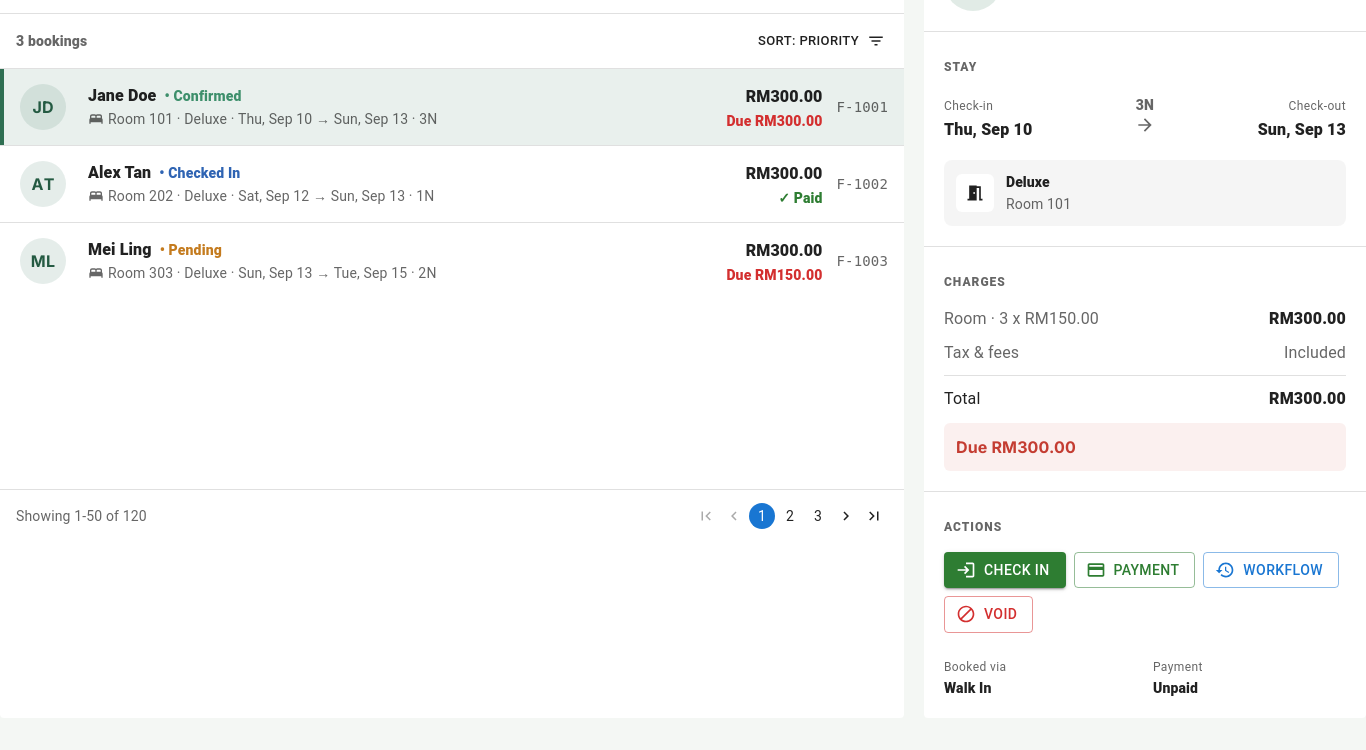
BookingsPage › modals › the existing-booking "Check in" button fetches the guest profile and prefills IC/phone
(page scrolled)
Click the button "Check in" at (1005,570), box [944,552,1066,588]
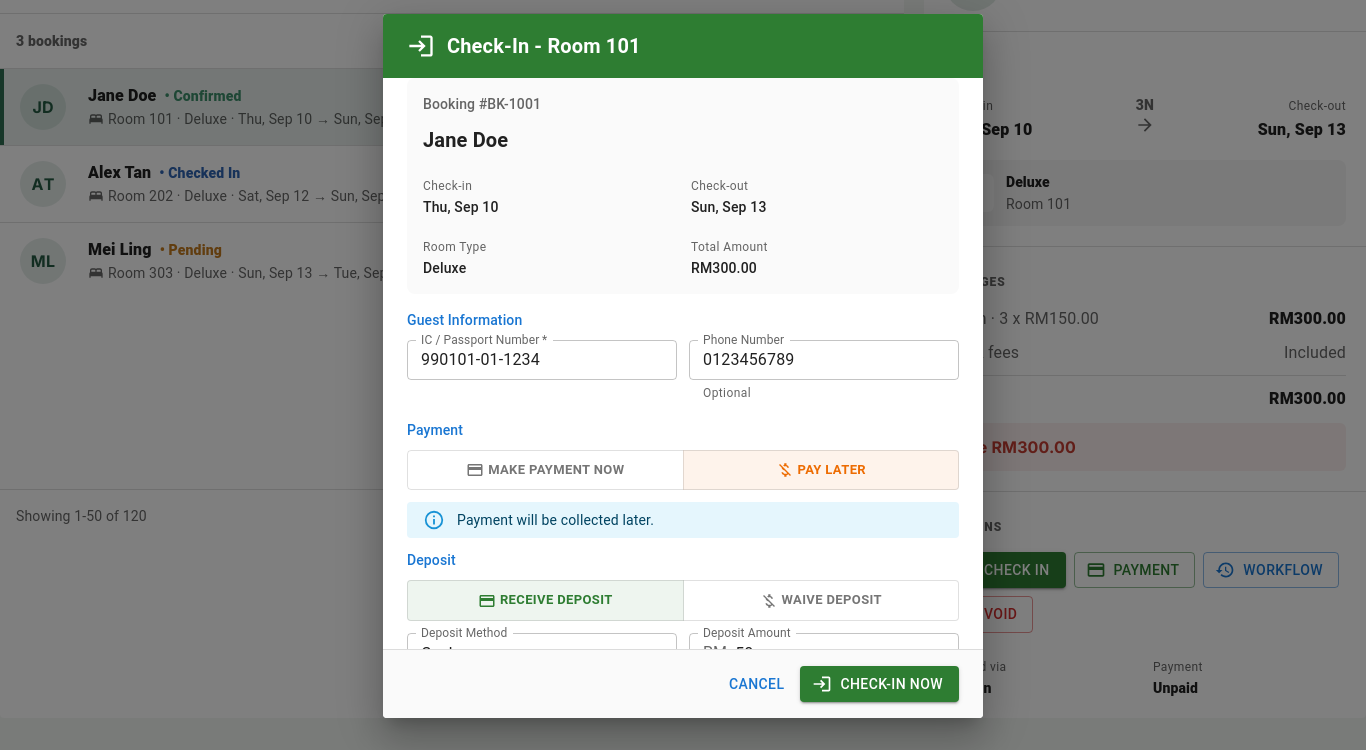
expect the text "Check-In - Room 101" is shown: met, box [447,30,641,62]
expect the field labelled "IC / Passport Number *" holds "990101-01-1234": met, box [407,340,677,380]
